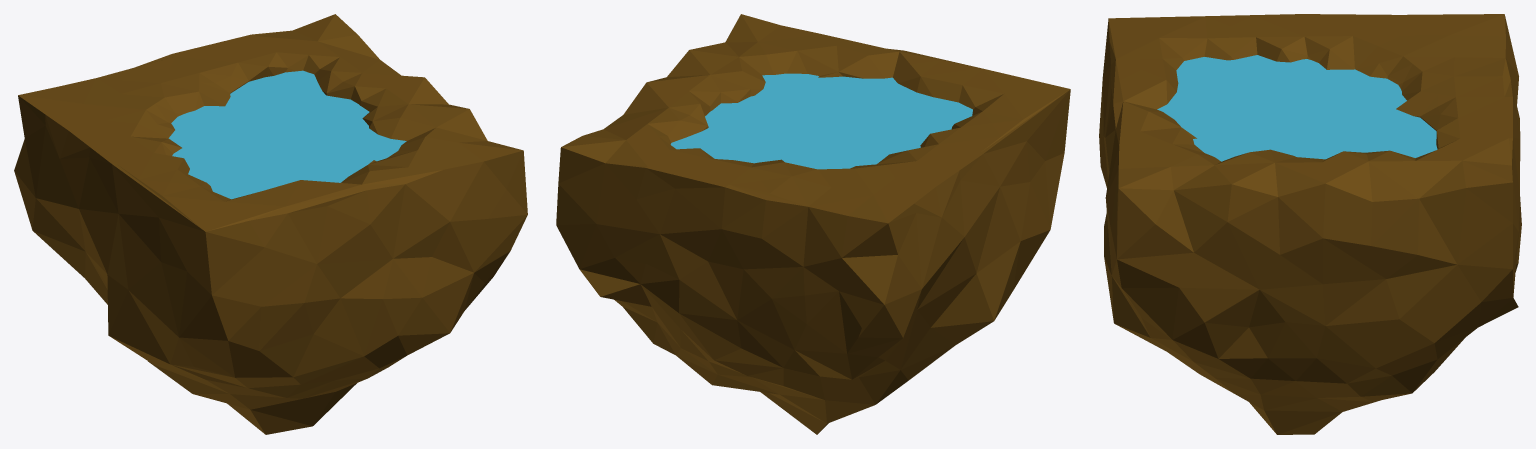
File: lake.fbx
The picture shows the model from 3 angles, left to right: view 1: azimuth 30°, elevation 25°; view 2: azimuth 150°, elevation 25°; view 3: azimuth 270°, elevation 25°; orthographic projection. The views are drawn at different scales.
Parts seen in each view (by area): view 1: Икосфера, Plane; view 2: Икосфера, Plane; view 3: Икосфера, Plane.
Part boxes in pixels (x1=…): Икосфера: x1=14, y1=14, x2=527, y2=434; Plane: x1=168, y1=70, x2=406, y2=199; Икосфера: x1=556, y1=14, x2=1070, y2=434; Plane: x1=670, y1=73, x2=972, y2=169; Икосфера: x1=1099, y1=14, x2=1521, y2=434; Plane: x1=1157, y1=55, x2=1437, y2=161.
Size of the model in its own units: 138 by 120 by 136.
